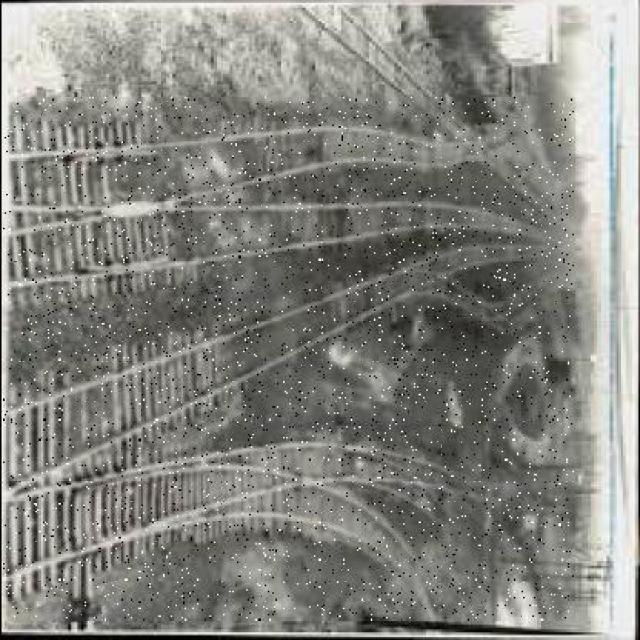rail: (2, 97, 572, 620)
